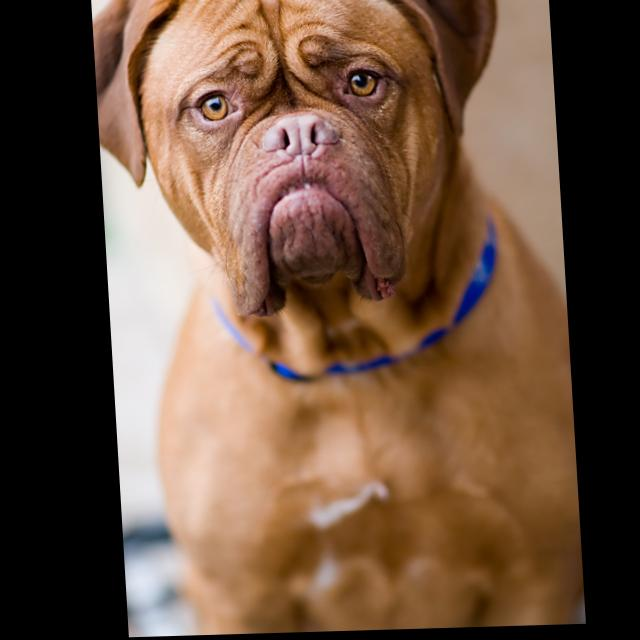dogue_de_bordeaux: (93, 1, 579, 639)
